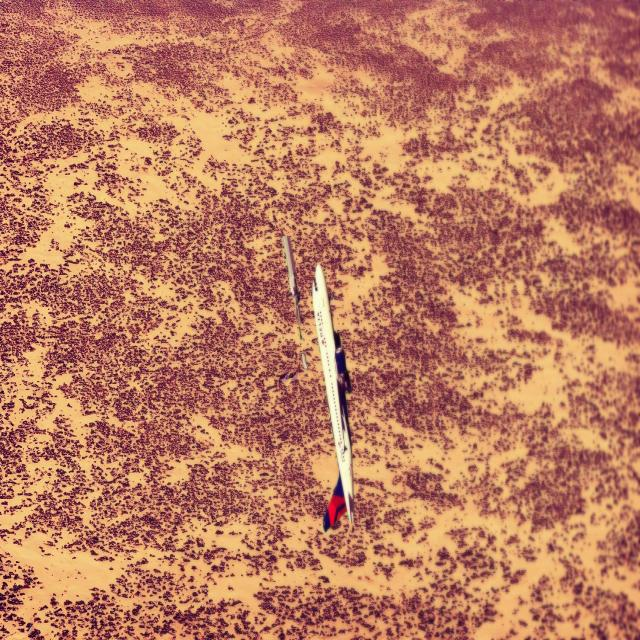airplane: (281, 234, 355, 533)
